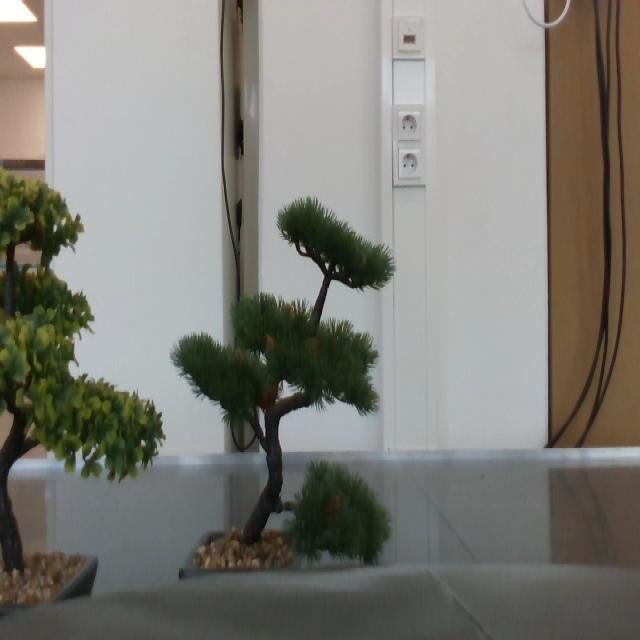potted plant: (170, 195, 396, 574), (1, 174, 166, 617)
